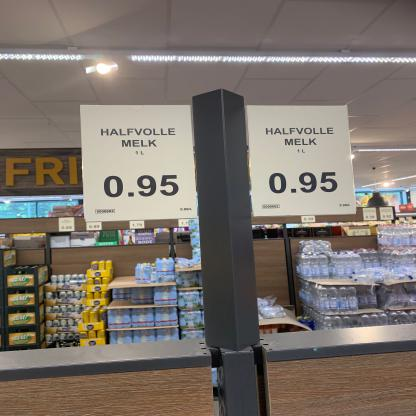prtg: (82, 106, 199, 223), (247, 106, 358, 218)
